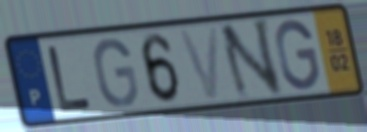6: (138, 31, 183, 107)
G: (91, 36, 141, 110), (274, 17, 322, 92)
L: (44, 43, 95, 114)
N: (216, 15, 286, 104)
V: (175, 23, 222, 103)
